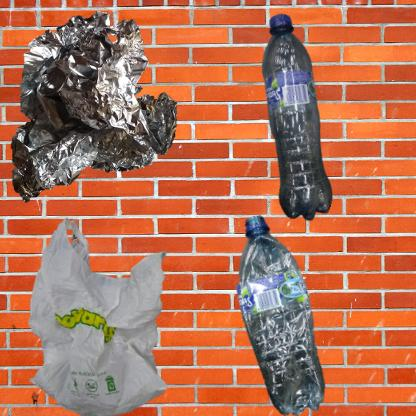aluminio: (10, 10, 178, 203)
bolsa: (10, 213, 204, 416)
botella: (213, 10, 406, 262), (213, 213, 365, 416)
